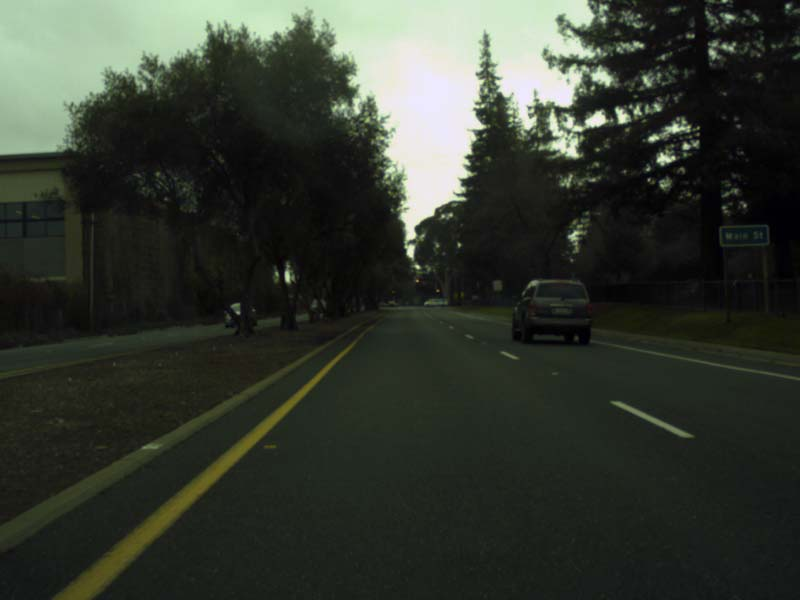Red: (391, 287, 394, 295), (436, 287, 438, 294), (416, 279, 418, 285)
